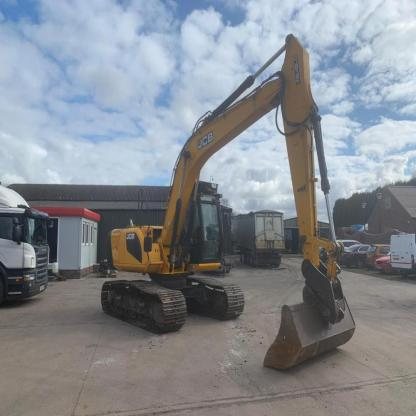dump_truck: (1, 177, 56, 319)
excavator: (99, 28, 371, 384)
